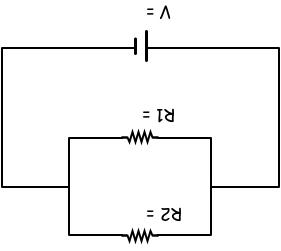Battery: (116, 18, 166, 71)
